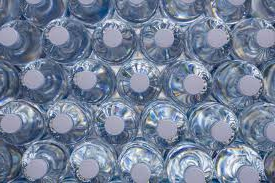plastic water bottle: (214, 60, 265, 105), (164, 60, 213, 105), (18, 141, 70, 183), (69, 141, 119, 183), (163, 143, 215, 183), (19, 59, 68, 101), (68, 59, 114, 103), (115, 62, 161, 105), (90, 19, 138, 60), (138, 19, 186, 60), (215, 144, 265, 183), (41, 19, 91, 58), (43, 101, 91, 141), (190, 104, 239, 143), (118, 141, 163, 183), (139, 104, 188, 142), (1, 99, 44, 142), (187, 19, 233, 59), (91, 103, 139, 141), (232, 19, 275, 59), (1, 19, 41, 58), (240, 106, 275, 142)
